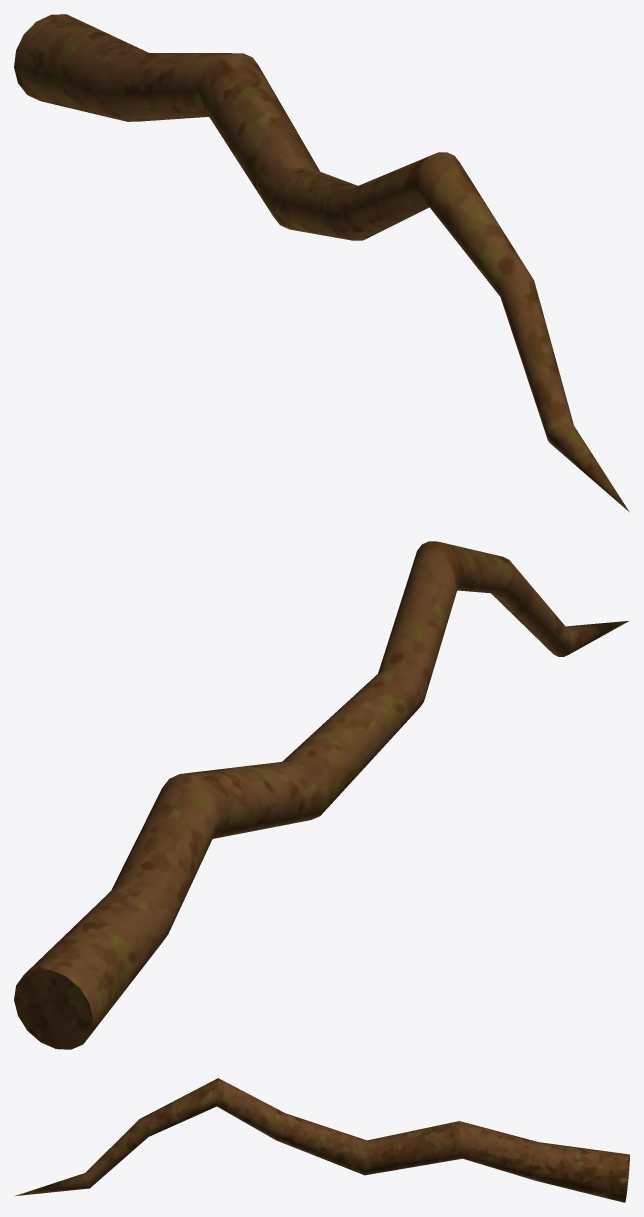
The model's file is Sm_Branches5.fbx.
The picture shows the model from 3 angles, top to bottom: view 1: azimuth 30°, elevation 25°; view 2: azimuth 150°, elevation 25°; view 3: azimuth 270°, elevation 25°; orthographic projection. The views are drawn at different scales.
Parts seen in each view (by area): view 1: Sm_Branches5; view 2: Sm_Branches5; view 3: Sm_Branches5.
Part boxes in pixels (<box>): Sm_Branches5: <box>14,14,629,512</box>; Sm_Branches5: <box>14,541,629,1049</box>; Sm_Branches5: <box>14,1078,629,1202</box>.
Size of the model in its own units: 10.54 by 24.1 by 111.
